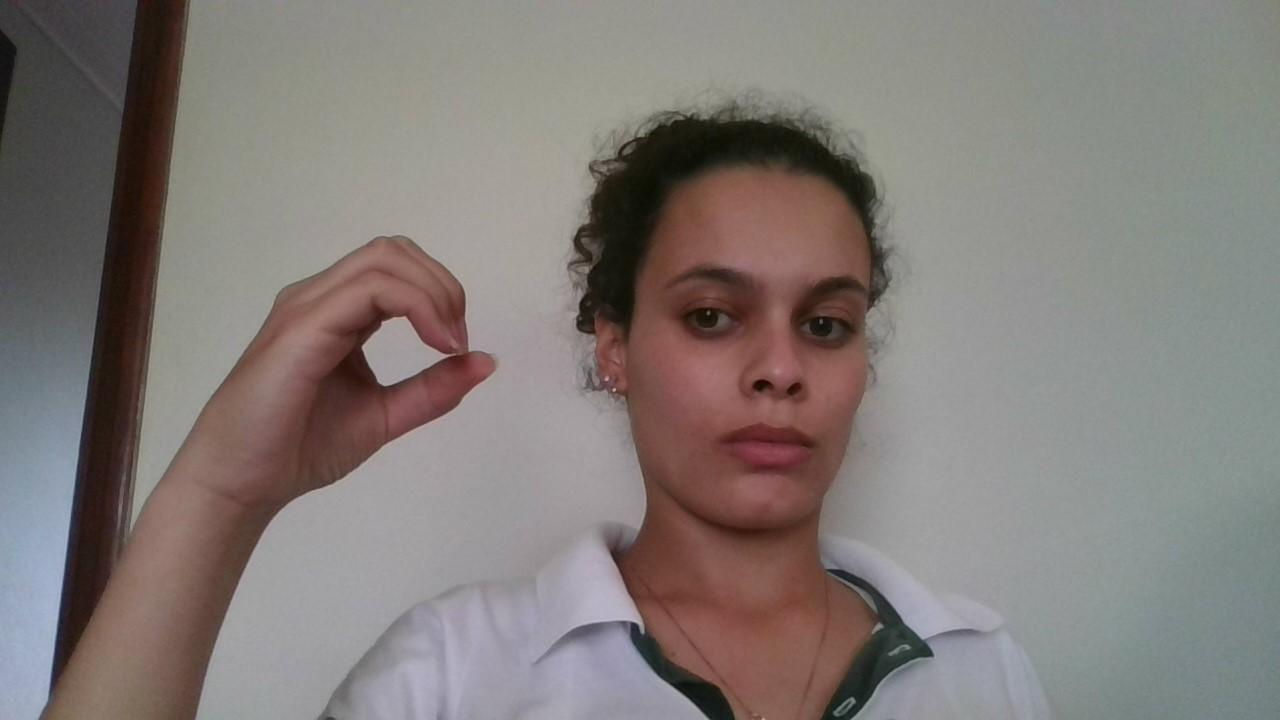O: (198, 228, 510, 500)
